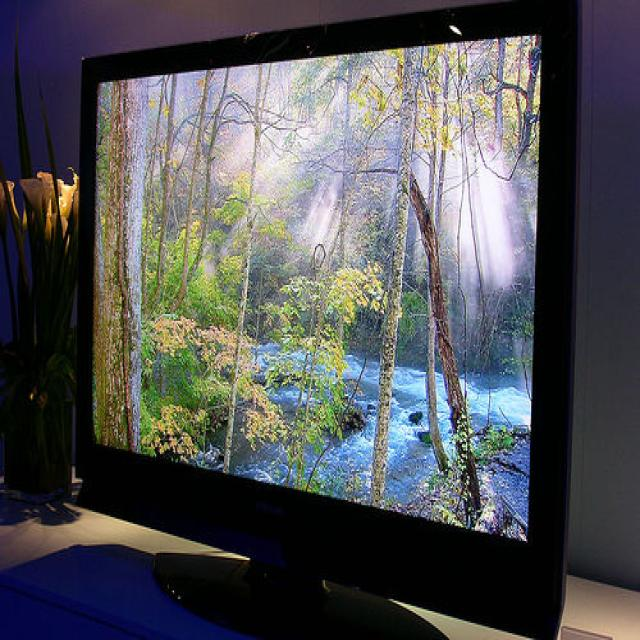tvmonitor: (70, 1, 584, 639)
